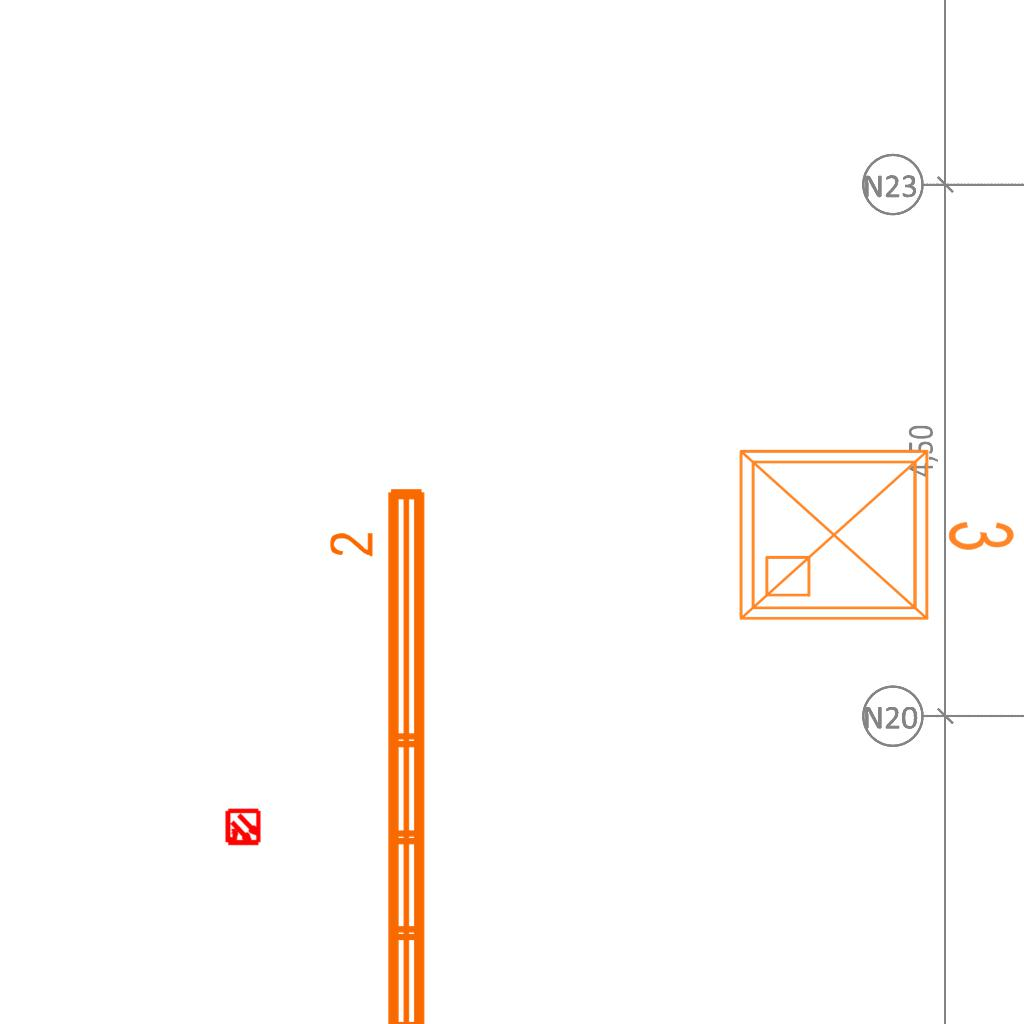Ambulanz_Pendelleuchte_LED: (325, 480, 437, 1024)
Einbaudownlights_LED_Konferenzraeume: (725, 427, 1024, 635)
OT_Multisensormelder_(Kombination_RMO_WMD): (215, 800, 271, 856)
